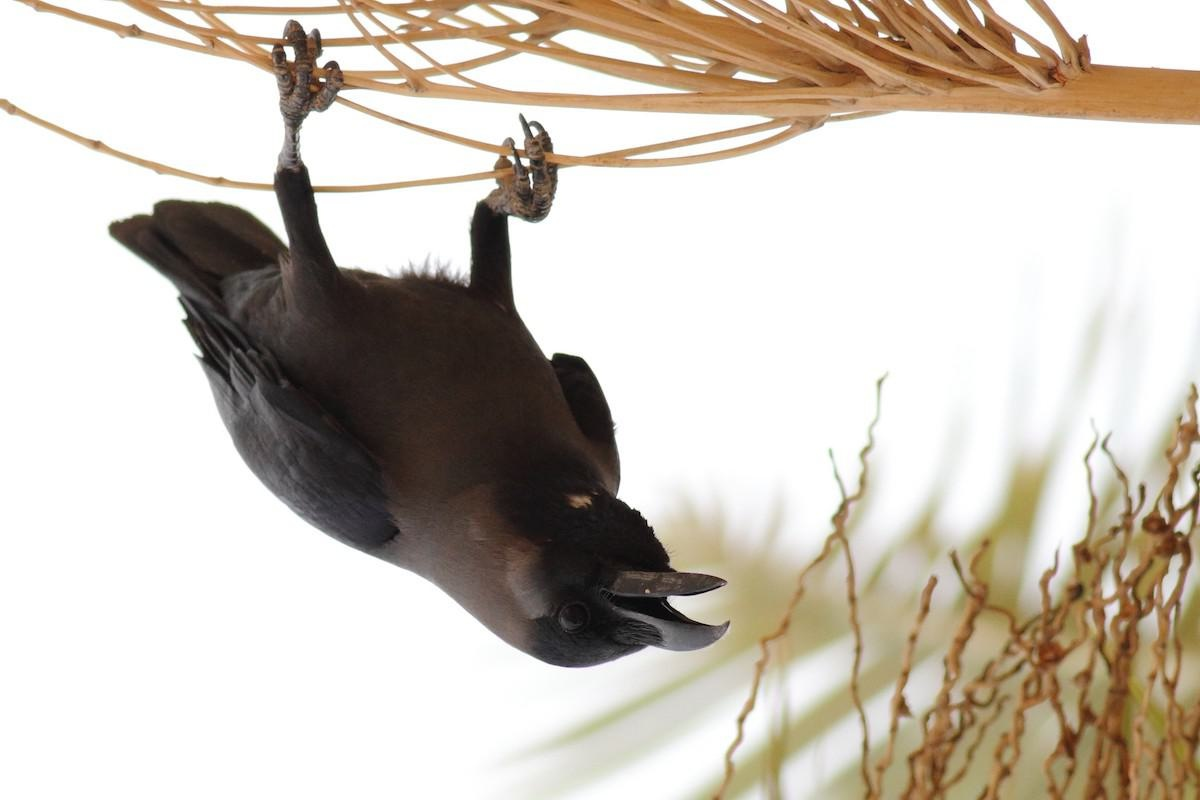crow: (150, 21, 738, 693)
